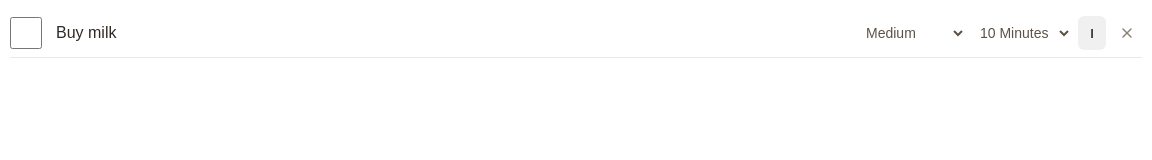
Enter saves the trimmed name and returns focus to the name
The image size is (1152, 160).
Click the button with aria-label "edit task name".
click(86, 32)  # box top-left (56, 24), bottom-right (116, 41)
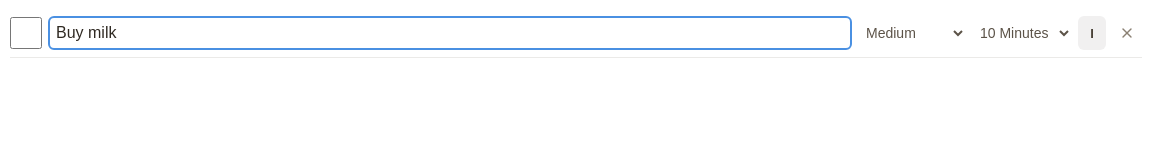
Replace the text in the field named "Task name" with "  Buy oat milk  " at [450, 33], box top-left (56, 23), bottom-right (844, 43)
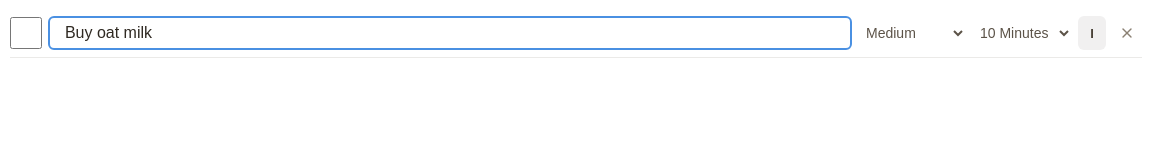
Press Enter in the field named "Task name", box top-left (56, 23), bottom-right (844, 43)
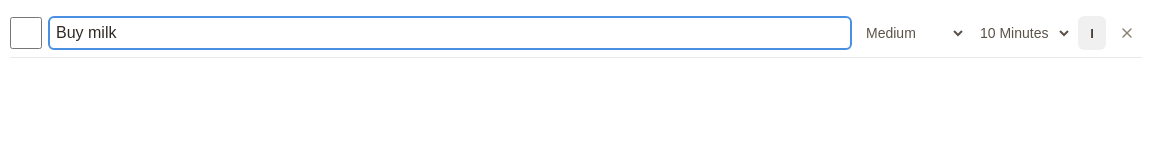
Check: the field is gone
